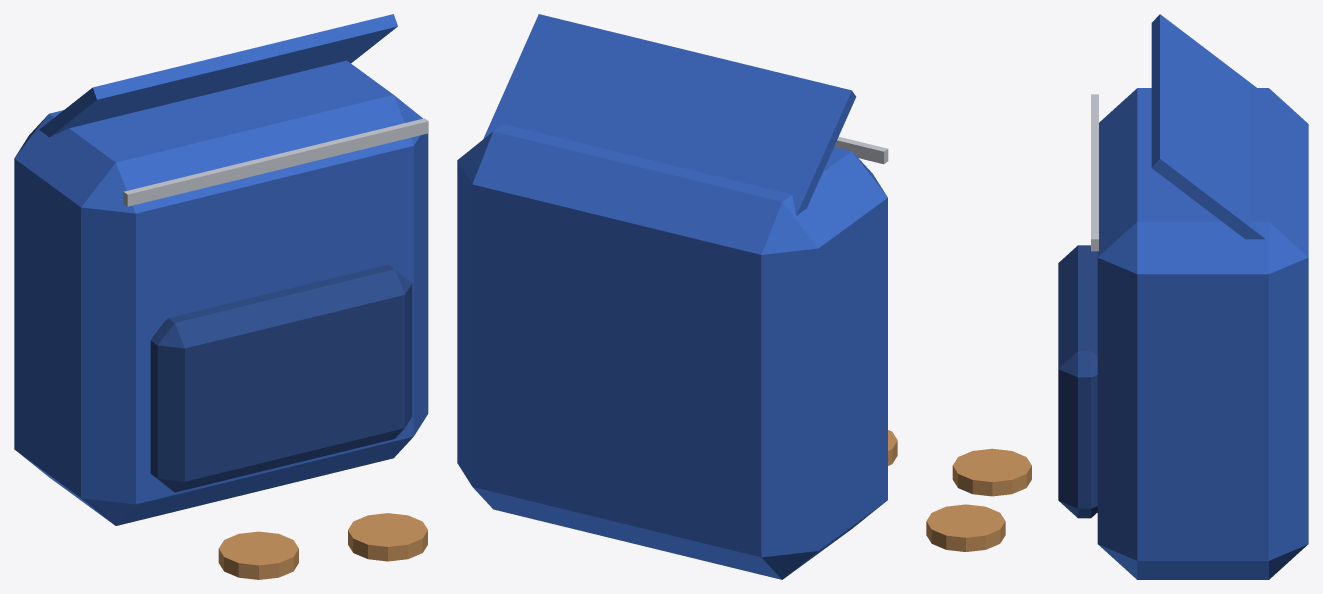
Rendered from backpack_open.fbx.
3 views of the same model, side by side, from view 1: azimuth 30°, elevation 25°; view 2: azimuth 150°, elevation 25°; view 3: azimuth 270°, elevation 25° (orthographic). The views are drawn at different scales.
Parts seen in each view (by area): view 1: backpack_open; view 2: backpack_open; view 3: backpack_open.
Part boxes in pixels (box(x1,y1,x2,y2)): backpack_open: box(14, 14, 428, 579); backpack_open: box(457, 14, 897, 579); backpack_open: box(926, 14, 1308, 579).
Size of the model in its own units: 0.3 by 0.3574 by 0.29.
